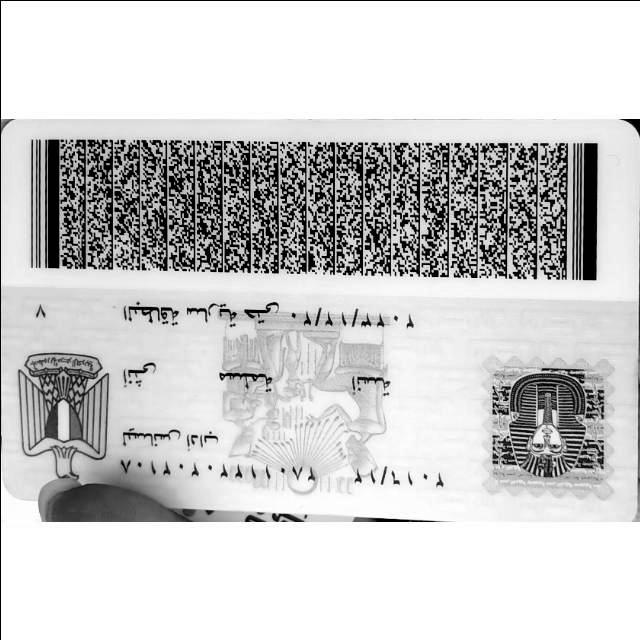back: (0, 120, 639, 520)
